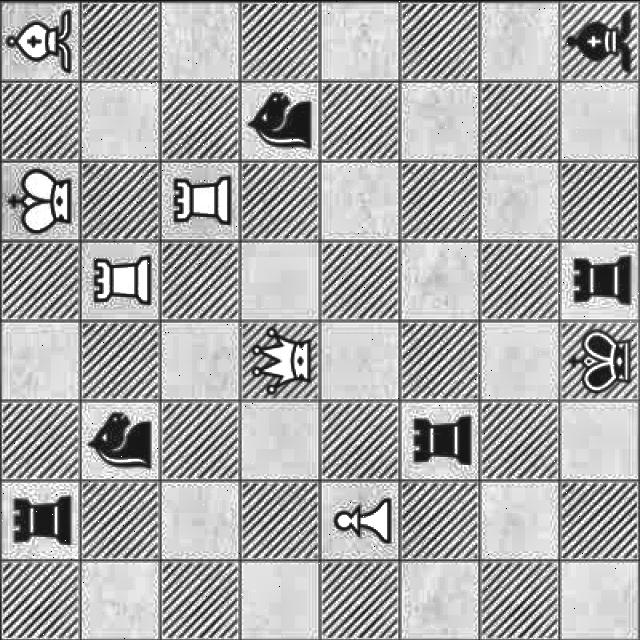Black Knight: (243, 84, 317, 158), (80, 402, 158, 472)
black bishop: (562, 0, 636, 77)
black king: (558, 328, 636, 394)
black rook: (564, 241, 638, 314), (5, 490, 77, 552), (404, 412, 476, 472)
white bishop: (2, 2, 80, 81)
white king: (0, 163, 78, 234)
white pawn: (321, 492, 396, 546)
white queen: (238, 322, 320, 398)
white rook: (84, 247, 157, 316), (168, 170, 234, 230)
